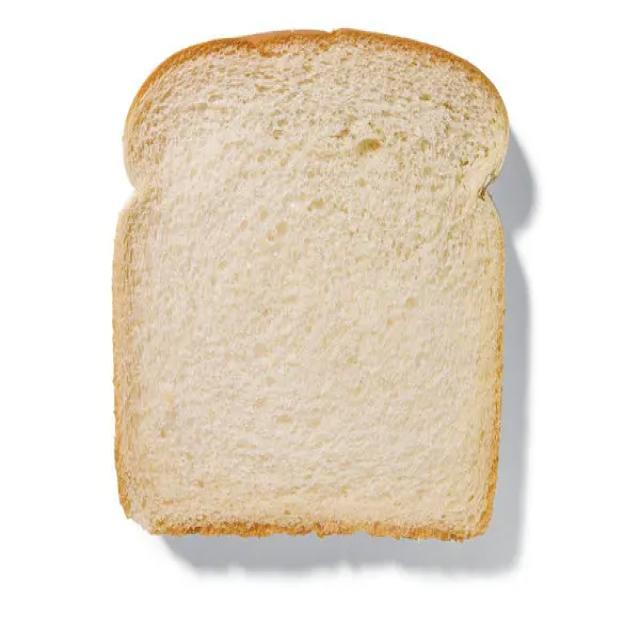Bread: (96, 19, 515, 540)
